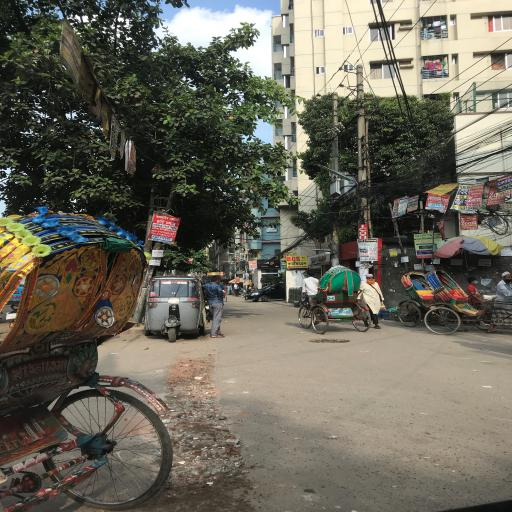rickshaw: (1, 209, 148, 512), (426, 269, 512, 337), (298, 266, 372, 336), (400, 272, 433, 331)
three wheelers (CNG): (153, 277, 211, 345)
